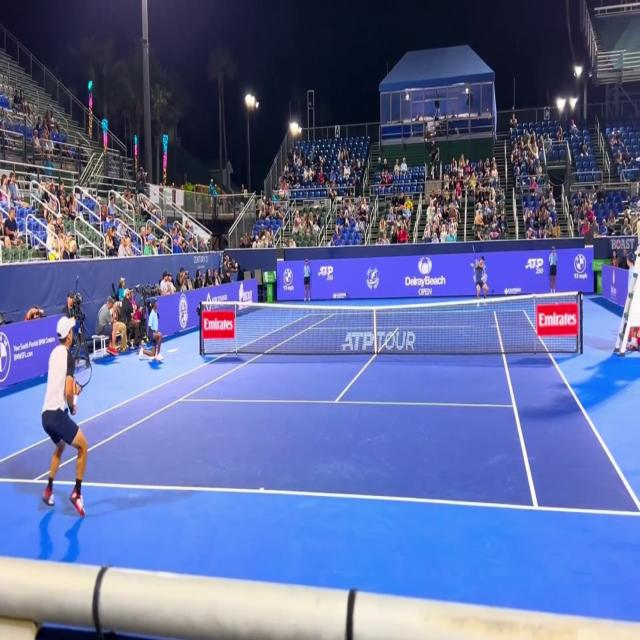tennisBall: (469, 260, 474, 272)
